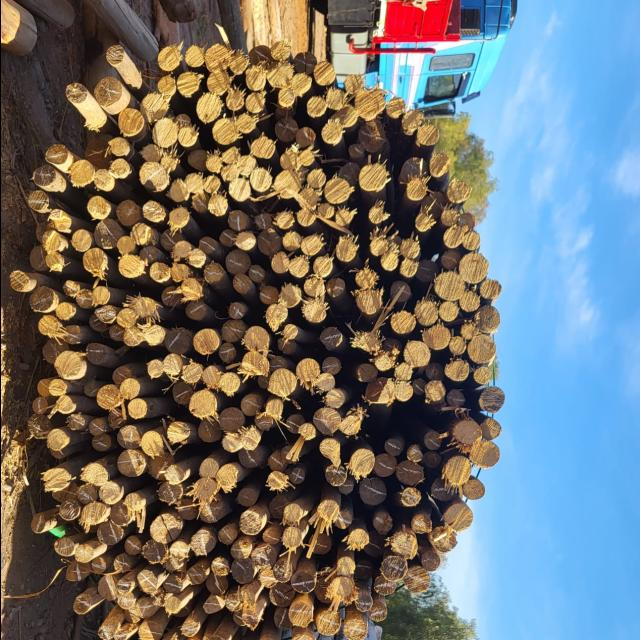package: (11, 46, 502, 640)
